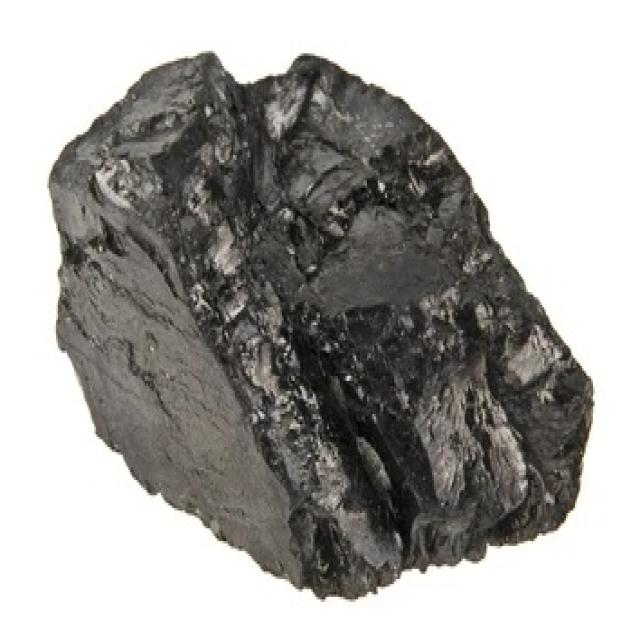Sedimentary: (36, 48, 597, 600)
